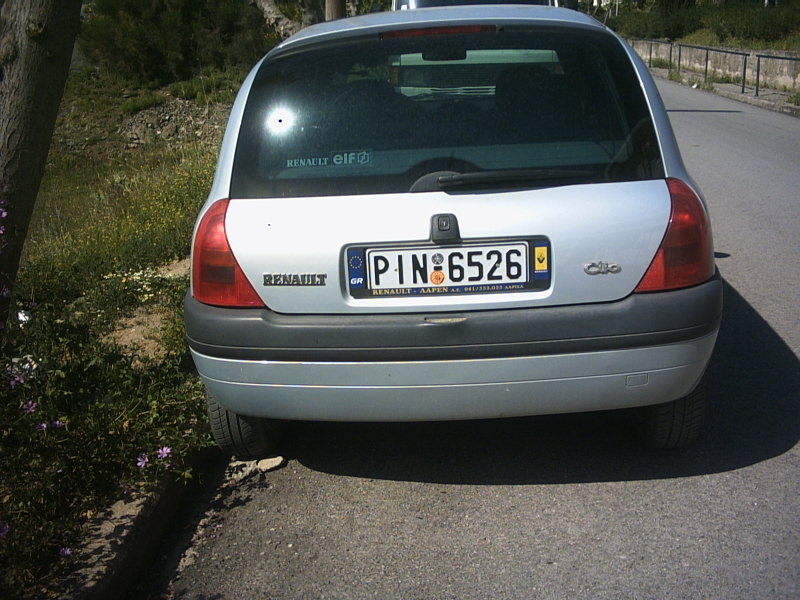licenseplate: (345, 239, 529, 291)
